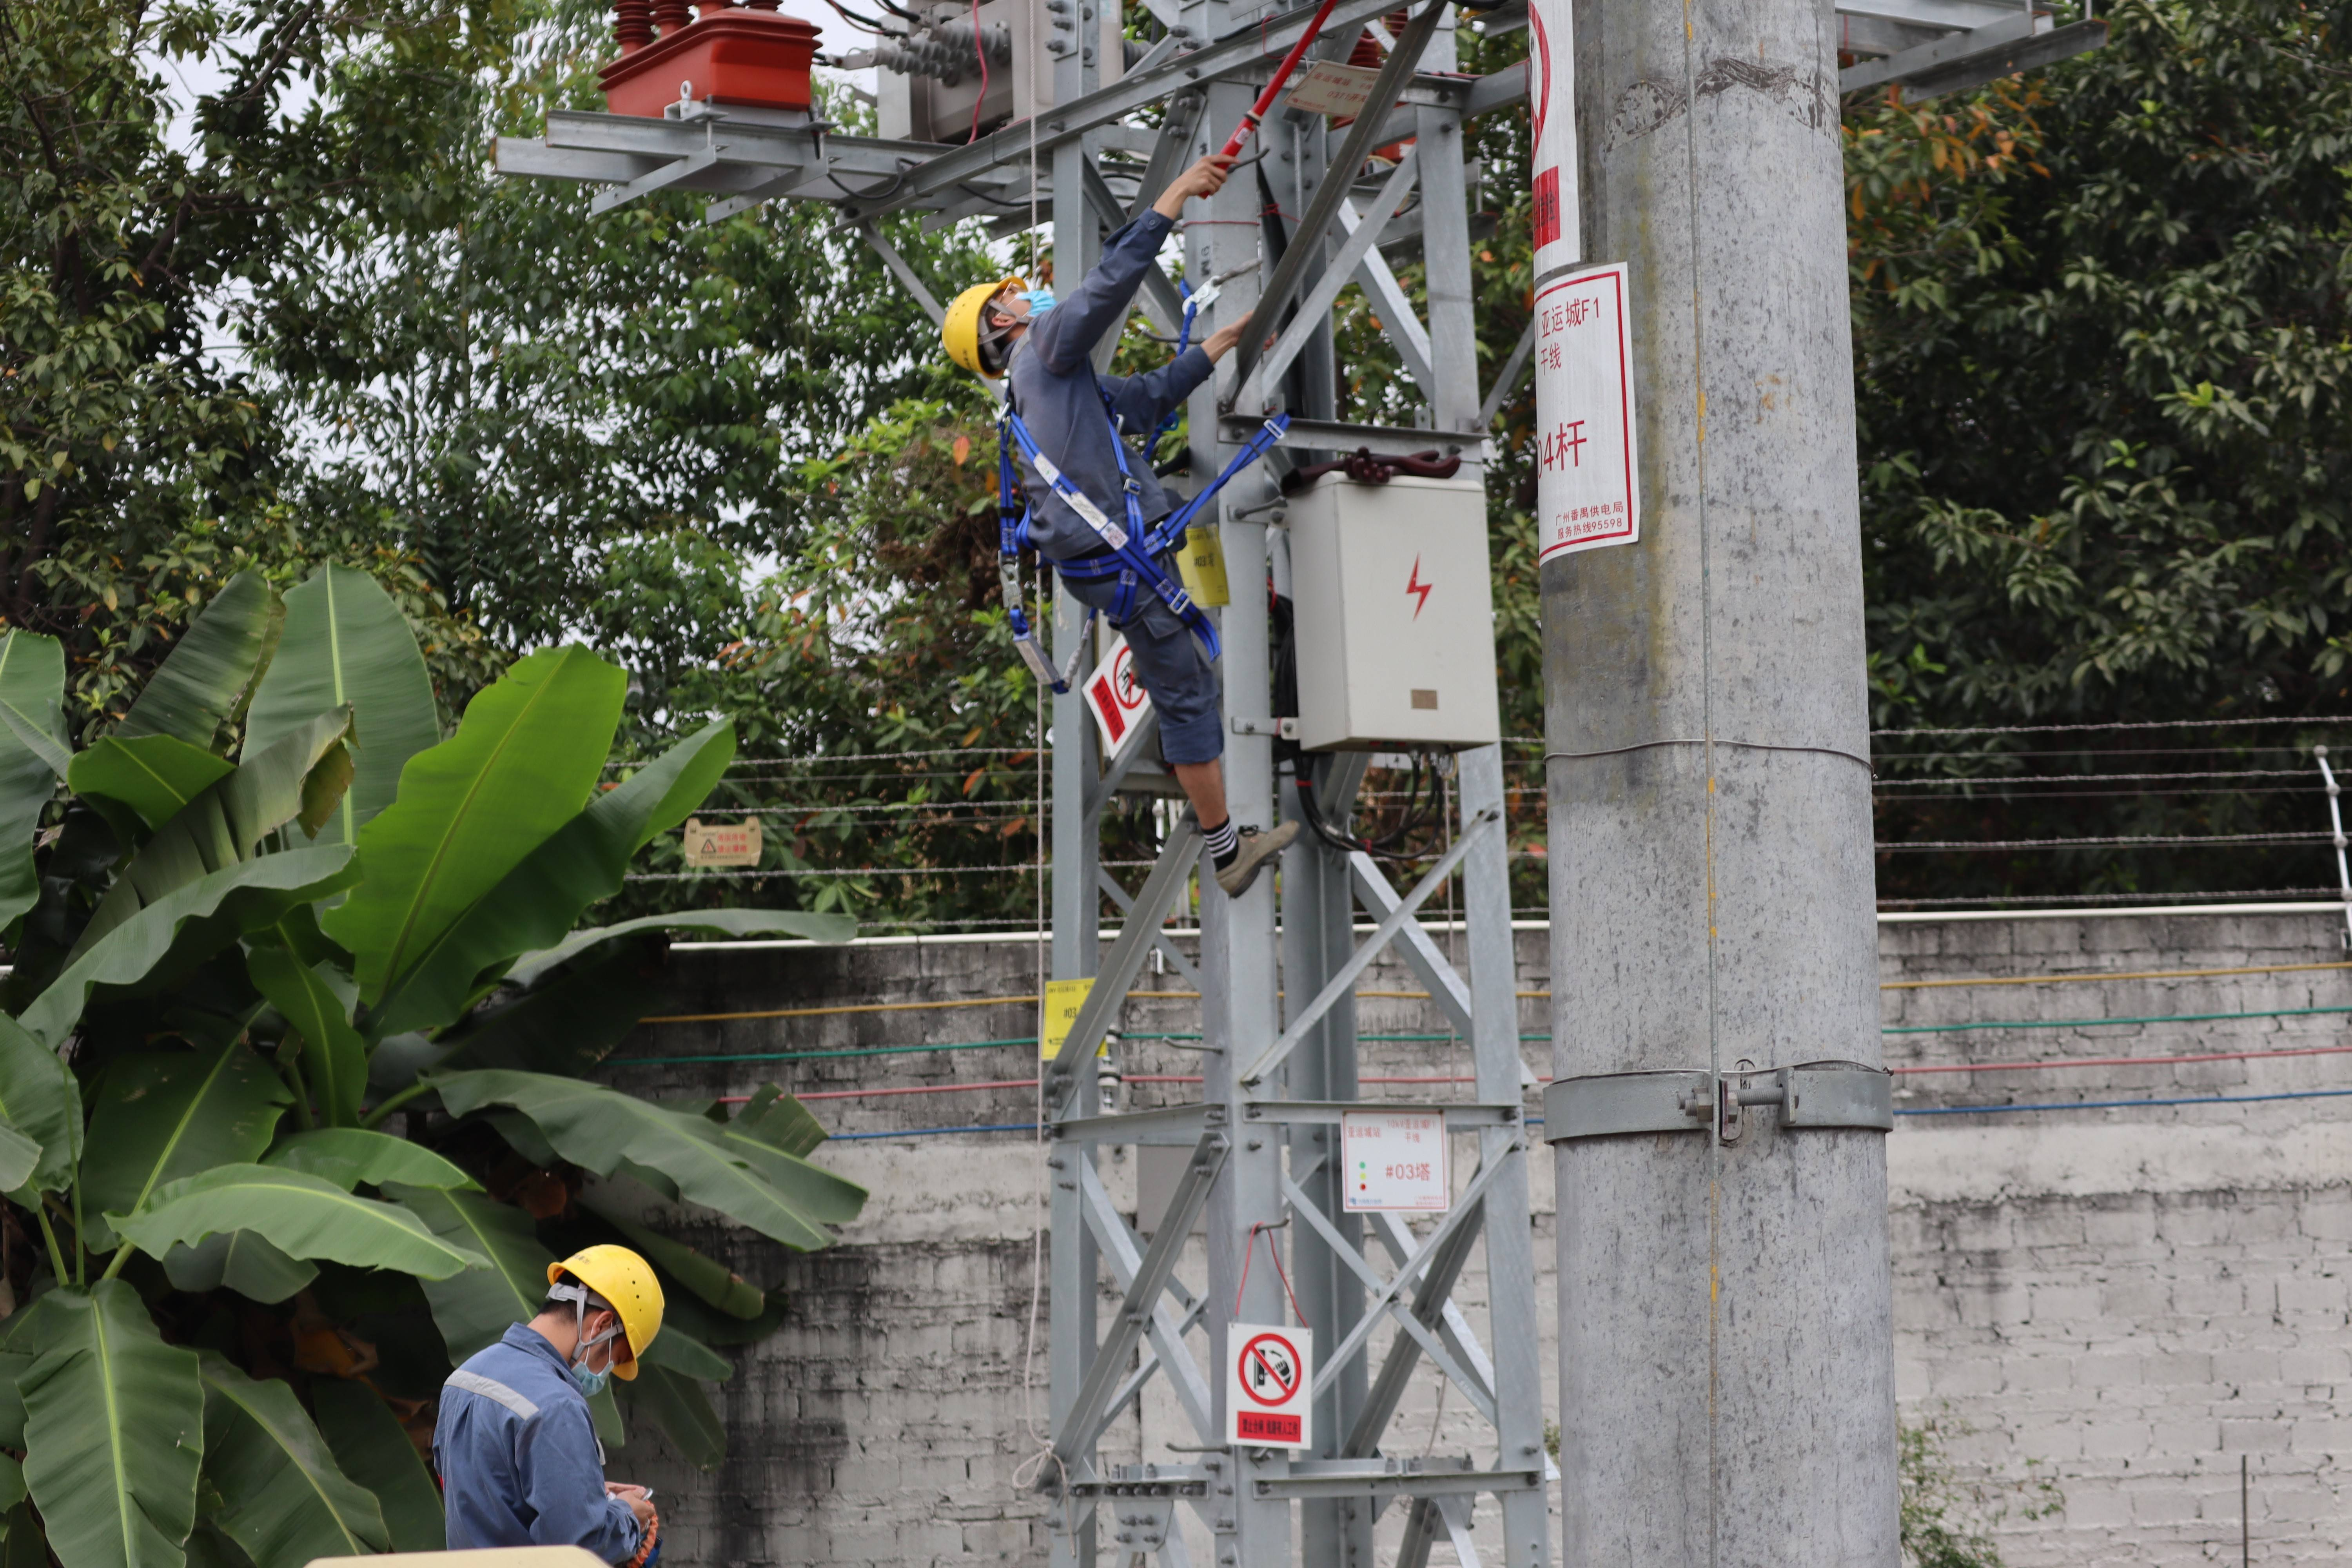downsuit: (1064, 541, 1243, 777)
upsuit: (1001, 207, 1214, 549), (418, 1319, 658, 1568)
wrongbottom: (1155, 730, 1251, 851), (1165, 724, 1251, 838)
